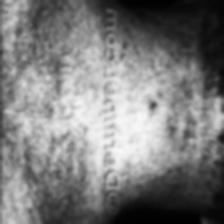Toxin: (0, 0, 91, 218)
